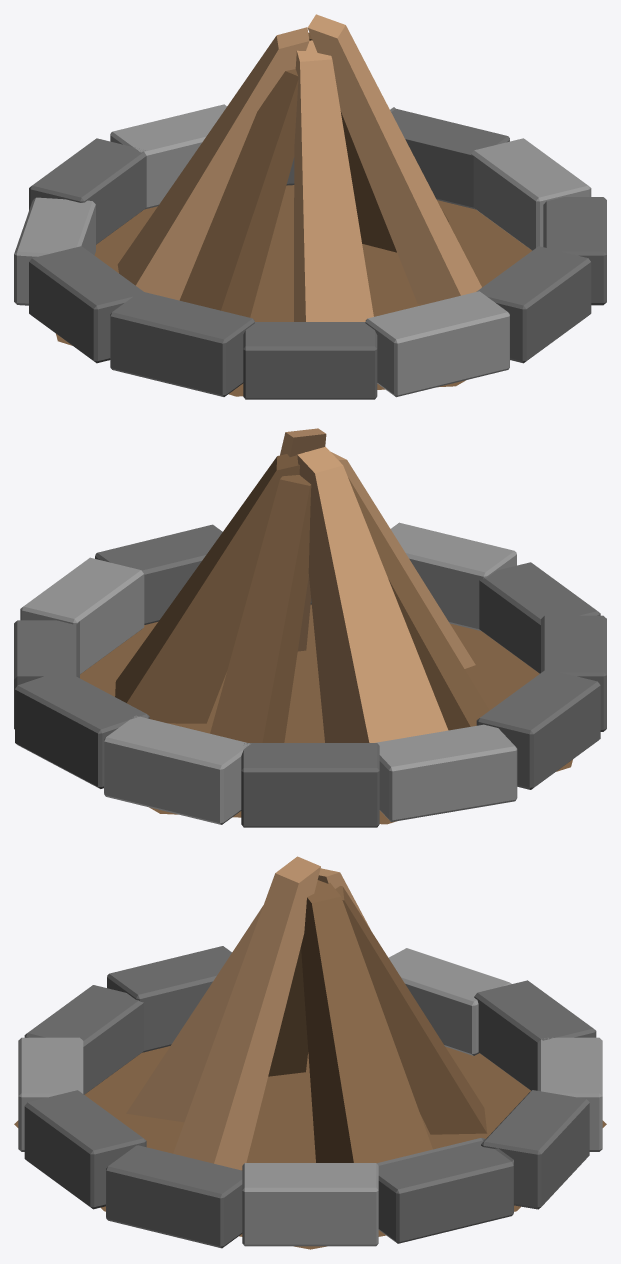
The model's file is CampFire.fbx.
3 renders of one model, top to bottom at view 1: azimuth 30°, elevation 25°; view 2: azimuth 150°, elevation 25°; view 3: azimuth 270°, elevation 25°, orthographic. The views are drawn at different scales.
Parts seen in each view (by area): view 1: Camp Fire; view 2: Camp Fire; view 3: Camp Fire.
Boxes of the visible parts, x1=… form: Camp Fire: x1=14, y1=14, x2=606, y2=399; Camp Fire: x1=14, y1=428, x2=606, y2=827; Camp Fire: x1=14, y1=856, x2=606, y2=1249.
Bounding box in the file's own units: 183 × 89.52 × 183.
